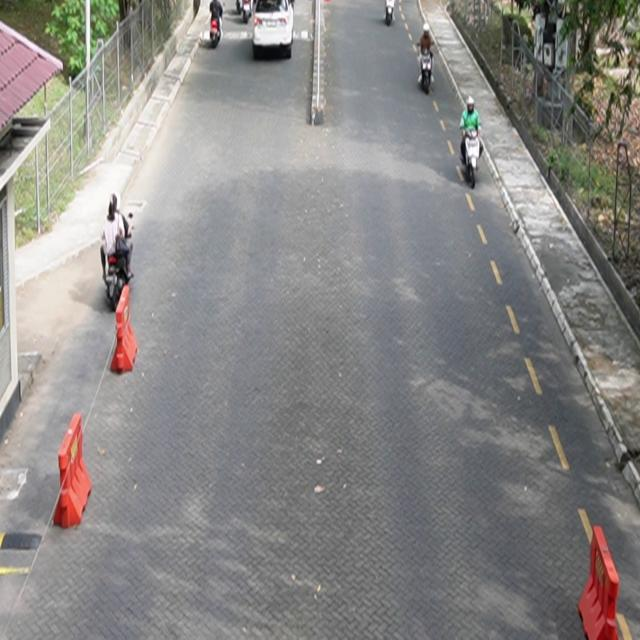car: (253, 1, 295, 60)
